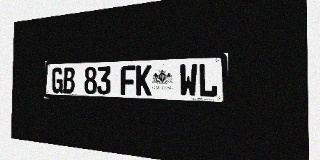3: (97, 66, 111, 95)
8: (84, 66, 97, 94)
B: (63, 67, 75, 94)
F: (121, 65, 135, 95)
G: (52, 67, 63, 93)
K: (136, 65, 152, 96)
L: (198, 63, 218, 98)
W: (179, 63, 197, 97)
